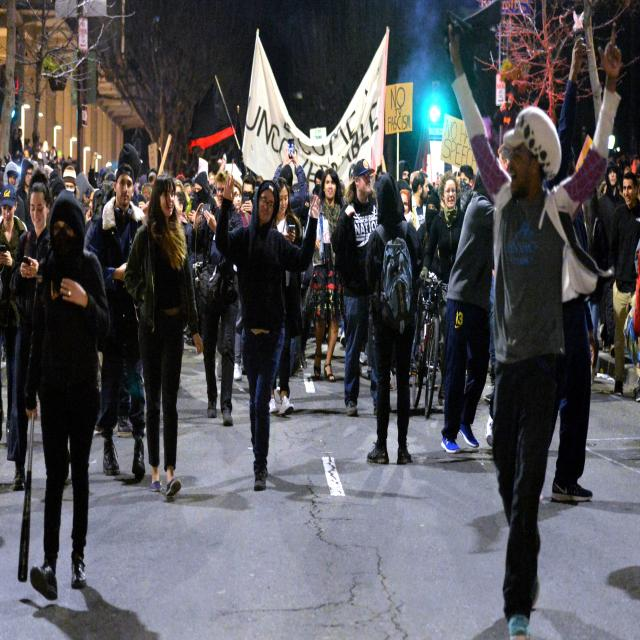body: (444, 18, 626, 640), (15, 190, 113, 604), (214, 172, 323, 494), (121, 171, 206, 500), (542, 36, 595, 505), (88, 160, 150, 486), (362, 173, 426, 468), (329, 156, 396, 421), (184, 168, 246, 429), (440, 165, 494, 456), (6, 180, 54, 492), (53, 146, 195, 248), (420, 173, 466, 406), (302, 167, 348, 383), (31, 564, 162, 639), (268, 176, 304, 418), (0, 183, 32, 451), (608, 168, 640, 402), (216, 179, 252, 382), (596, 159, 626, 357), (184, 170, 217, 346), (186, 169, 218, 347), (0, 125, 52, 234), (90, 341, 142, 446), (206, 151, 266, 239), (481, 250, 503, 452), (580, 199, 600, 393), (304, 161, 358, 229), (394, 168, 444, 235), (622, 231, 640, 406), (272, 142, 308, 222), (337, 307, 373, 384), (416, 190, 444, 281), (595, 157, 640, 199), (299, 262, 314, 378), (408, 170, 430, 240), (454, 163, 481, 216), (371, 161, 387, 196), (387, 366, 397, 395)
